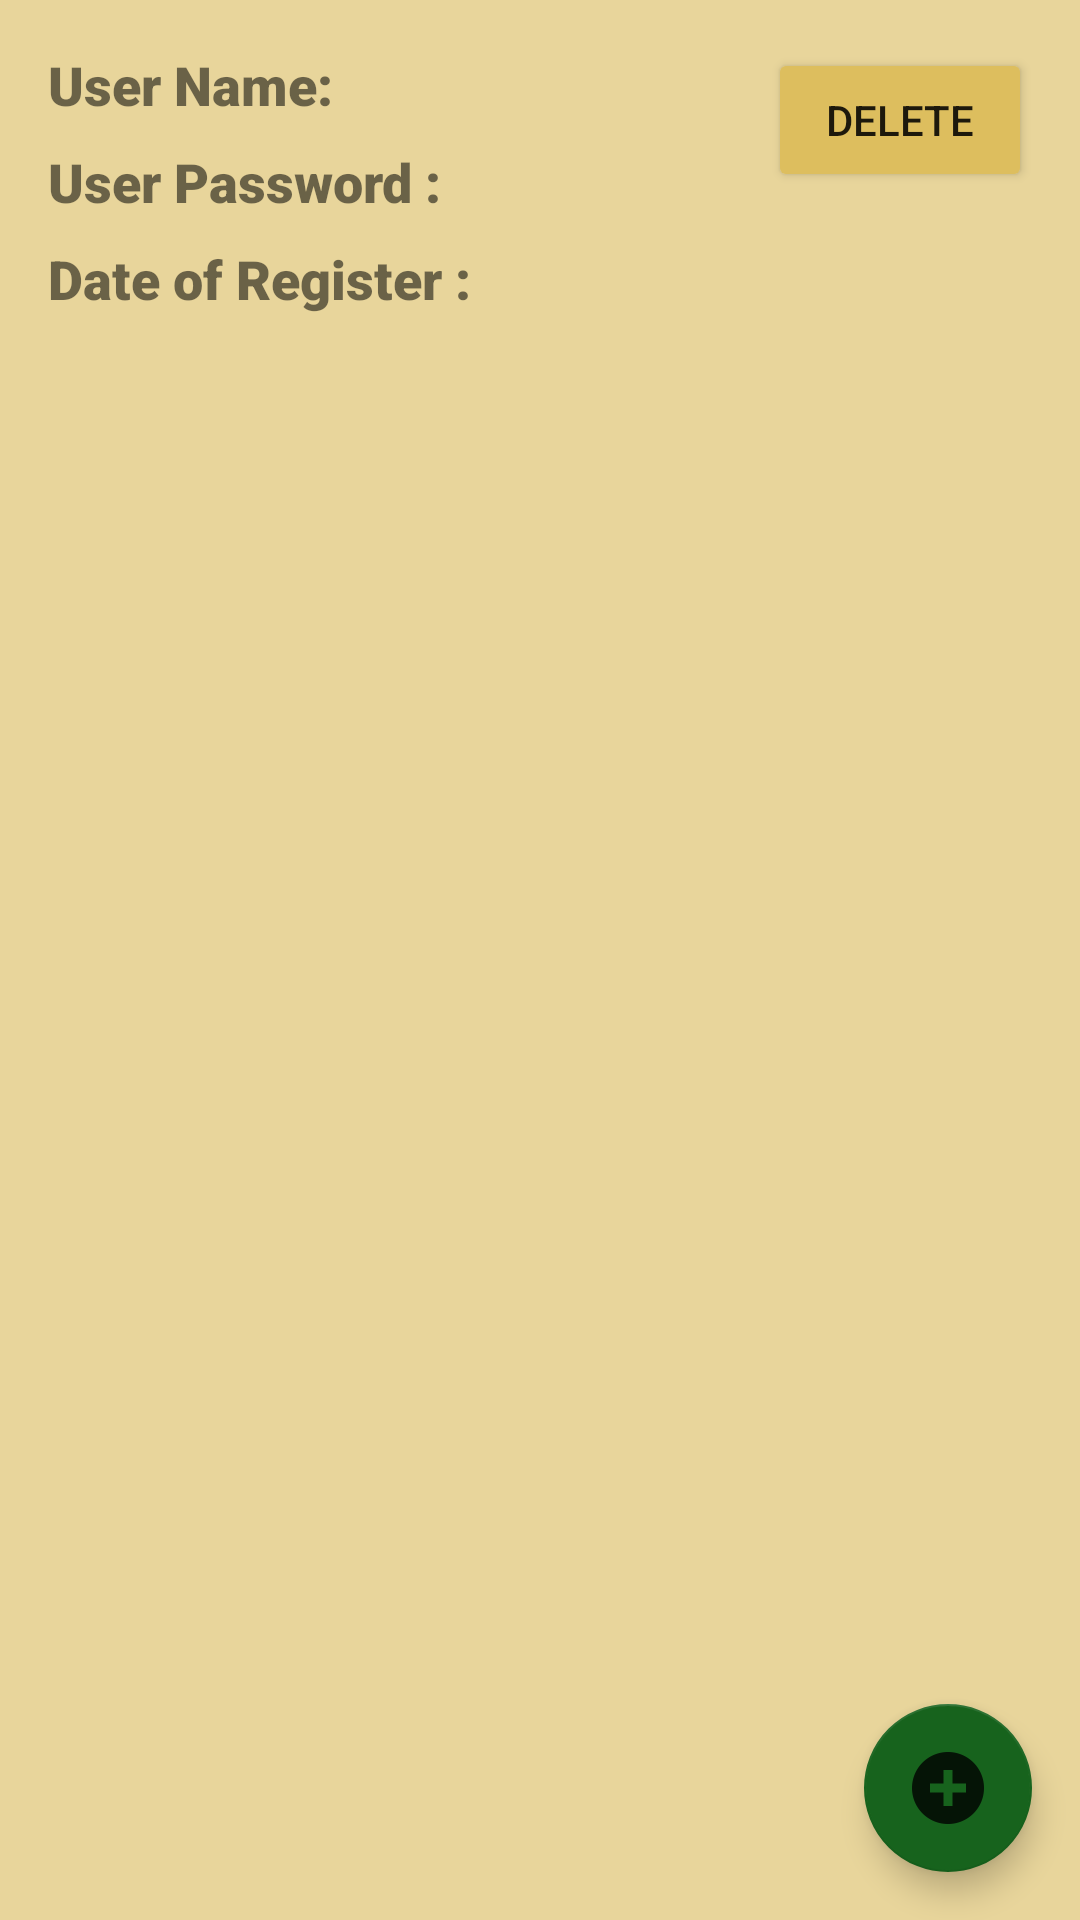

Named icons in this screenshot (1080x1920) and their centers, (x=x, y=y):
plus: (x=948, y=1788)
